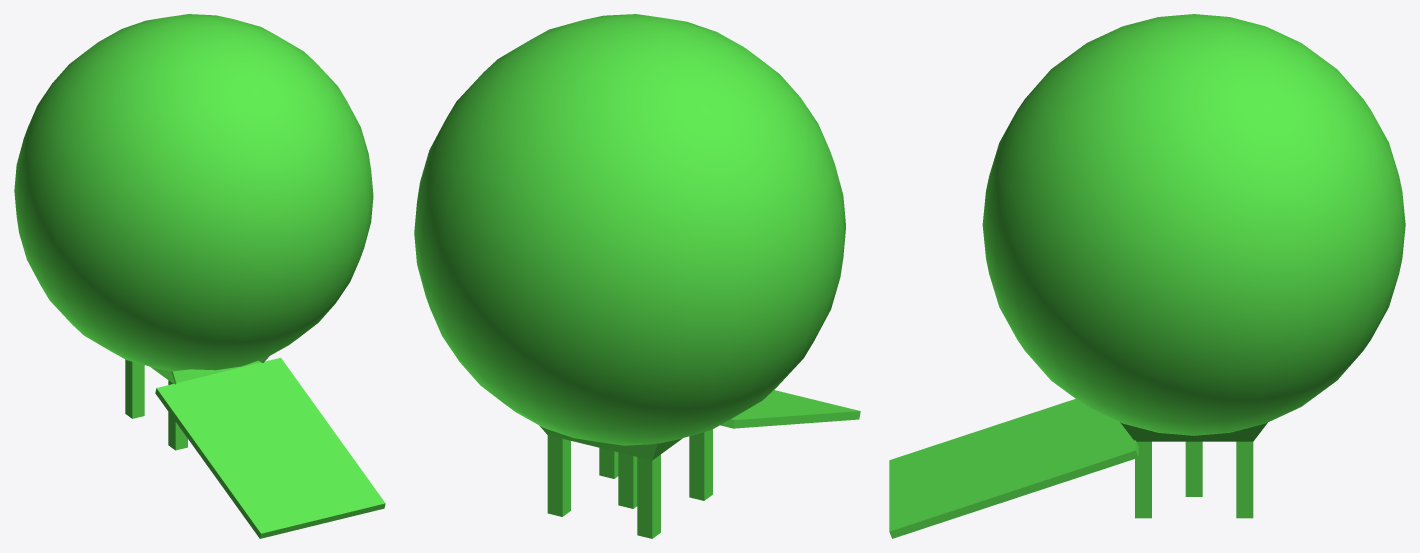
File: InverseGravitySample.fbx
3 renders of one model, left to right at view 1: azimuth 30°, elevation 25°; view 2: azimuth 150°, elevation 25°; view 3: azimuth 270°, elevation 25°, orthographic. The views are drawn at different scales.
Parts seen in each view (by area): view 1: RoomGravity, RampEntery, Pillarus.001, Bowlentry, Pillarus.002; view 2: RoomGravity, RampEntery, Pillarus.001, Pillarus.003, Pillarus.002, Bowlentry, Pillarus, Pillarus.004; view 3: RoomGravity, RampEntery, Pillarus.003, Bowlentry, Pillarus.004, Pillarus.
Part boxes in pixels (x1,y1,x2,y2): RoomGravity: [14, 14, 373, 371]; RampEntery: [155, 357, 385, 538]; Pillarus.001: [125, 359, 144, 418]; Bowlentry: [150, 356, 269, 384]; Pillarus.002: [168, 380, 187, 450]; RoomGravity: [414, 14, 845, 445]; RampEntery: [720, 390, 860, 428]; Pillarus.001: [637, 454, 660, 538]; Pillarus.003: [547, 435, 570, 516]; Pillarus.002: [689, 429, 712, 500]; Bowlentry: [539, 425, 682, 460]; Pillarus: [618, 452, 637, 508]; Pillarus.004: [599, 448, 618, 478]; RoomGravity: [982, 14, 1405, 435]; RampEntery: [889, 399, 1138, 538]; Pillarus.003: [1236, 441, 1253, 518]; Bowlentry: [1120, 422, 1267, 441]; Pillarus.004: [1135, 441, 1151, 518]; Pillarus: [1185, 441, 1202, 496].
Bounding box in the file's own units: 5000 × 6129 × 6103.
